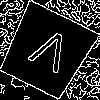V: (22, 26, 75, 83)
